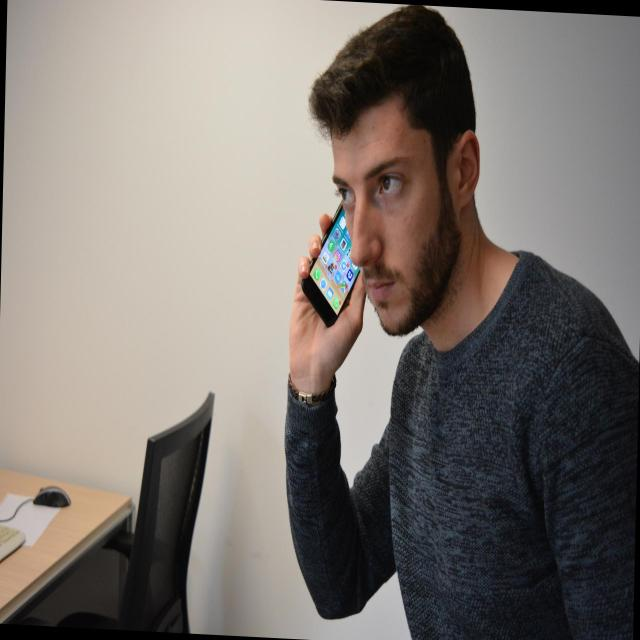phone: (301, 200, 362, 325)
